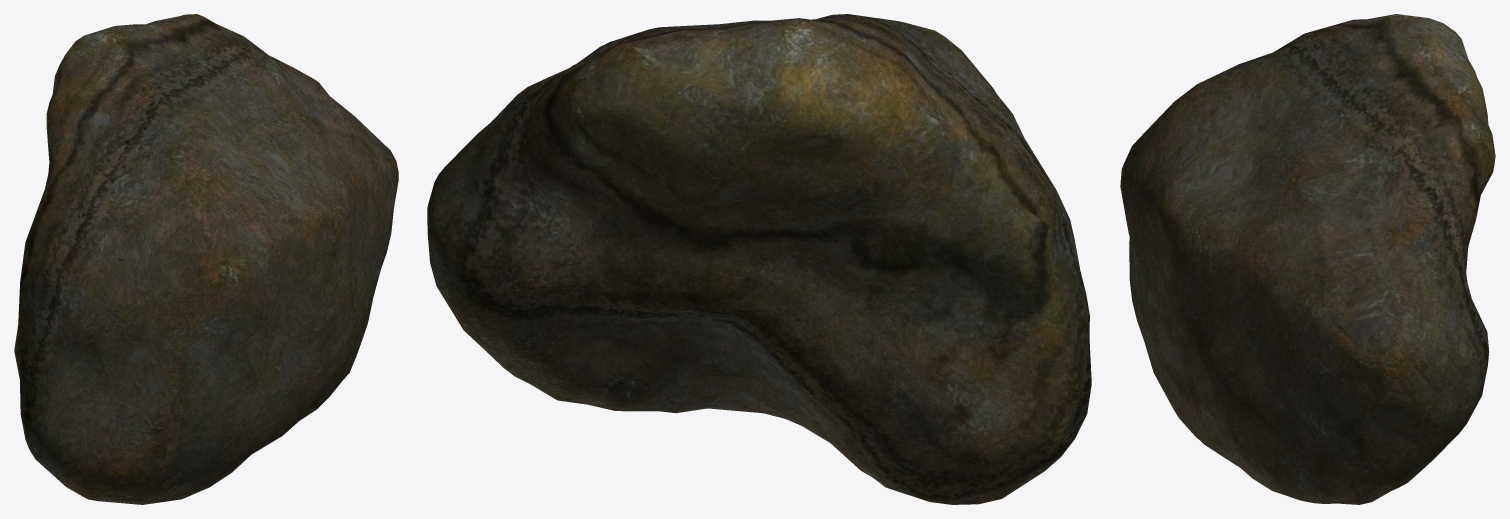
3 renders of one model, left to right at view 1: azimuth 30°, elevation 25°; view 2: azimuth 150°, elevation 25°; view 3: azimuth 270°, elevation 25°, orthographic. The views are drawn at different scales.
Visible parts, largest first — view 1: rock.001; view 2: rock.001; view 3: rock.001.
Boxes of the visible parts, box(x1,y1,x2,y2) form: rock.001: box(14, 14, 398, 504); rock.001: box(427, 14, 1091, 504); rock.001: box(1120, 14, 1495, 504).
Size of the model in its own units: 0.5 by 0.4397 by 0.3426.
Materials: 1 (1 with a texture image).
